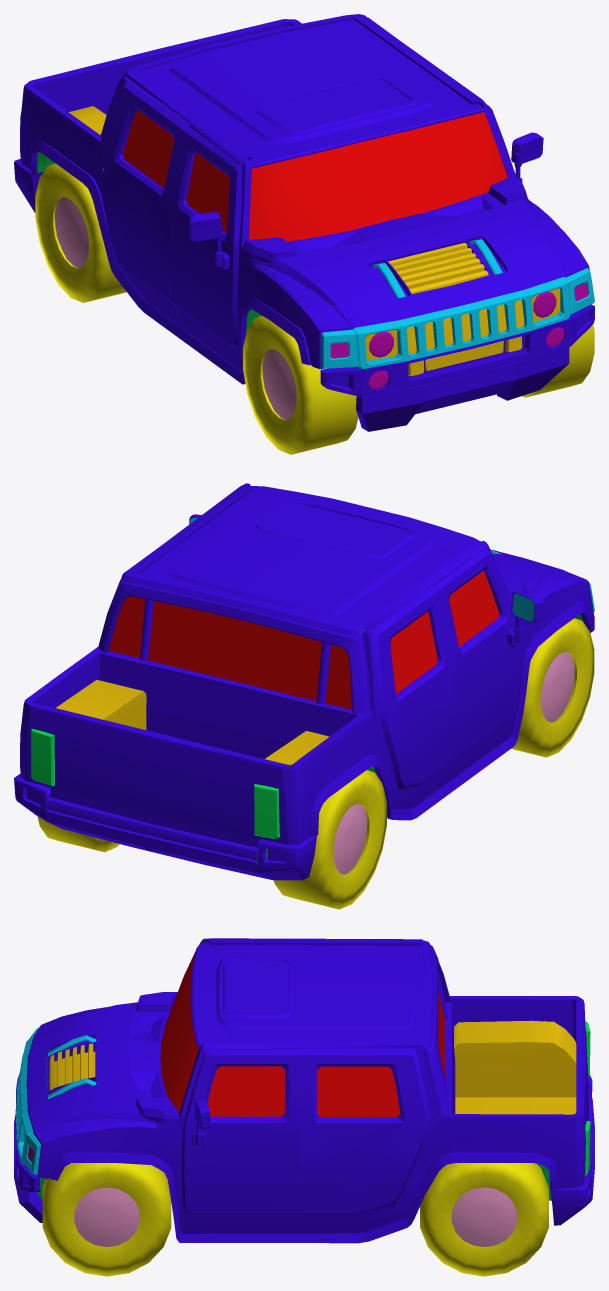
File: Car12_ColorCoded.fbx
3 views of the same model, one above another, from view 1: azimuth 30°, elevation 25°; view 2: azimuth 150°, elevation 25°; view 3: azimuth 270°, elevation 25° (orthographic). The views are drawn at different scales.
Parts seen in each view (by area): view 1: carBody, tireFrontR, tireBackR, tireFrontL; view 2: carBody, tireBackR, tireFrontR, tireBackL; view 3: carBody, tireFrontL, tireBackL.
Part boxes in pixels (bbox=[...]): carBody: bbox=[14, 14, 594, 431]; tireFrontR: bbox=[243, 315, 358, 454]; tireBackR: bbox=[35, 163, 126, 302]; tireFrontL: bbox=[522, 324, 594, 397]; carBody: bbox=[14, 483, 594, 880]; tireBackR: bbox=[274, 770, 386, 909]; tireFrontR: bbox=[511, 618, 594, 757]; tireBackL: bbox=[37, 816, 119, 852]; carBody: bbox=[14, 938, 594, 1243]; tireFrontL: bbox=[42, 1163, 171, 1276]; tireBackL: bbox=[420, 1163, 548, 1276].
Size of the model in its own units: 77.06 by 121 by 52.52.
